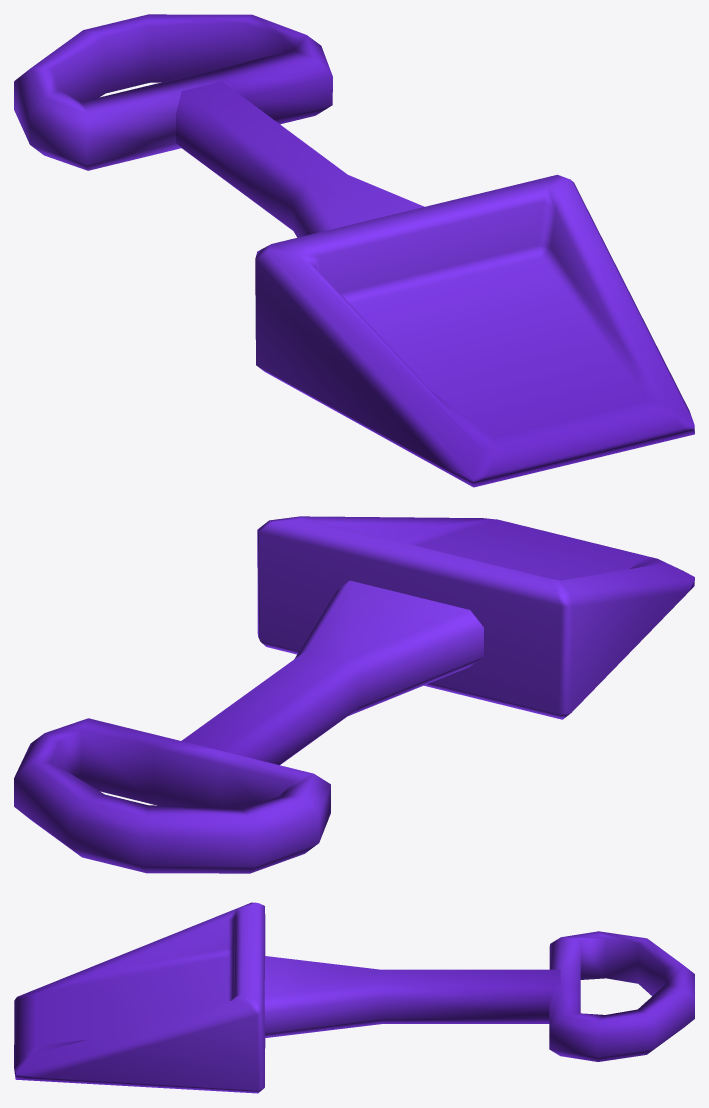
The model's file is kurek.fbx.
3 renders of one model, top to bottom at view 1: azimuth 30°, elevation 25°; view 2: azimuth 150°, elevation 25°; view 3: azimuth 270°, elevation 25°, orthographic. The views are drawn at different scales.
Parts seen in each view (by area): view 1: kurek; view 2: kurek; view 3: kurek.
Boxes of the visible parts, x1,y1,x2,y2 form: kurek: (14, 14, 694, 487); kurek: (14, 516, 694, 873); kurek: (14, 902, 694, 1093).
Bounding box in the file's own units: 69.02 × 26.39 × 181.
